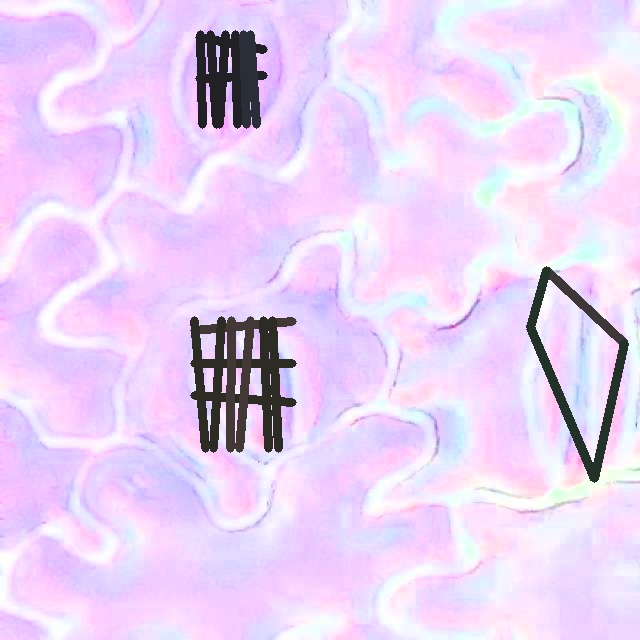open: (527, 267, 627, 481), (191, 317, 296, 452), (195, 30, 267, 128)
